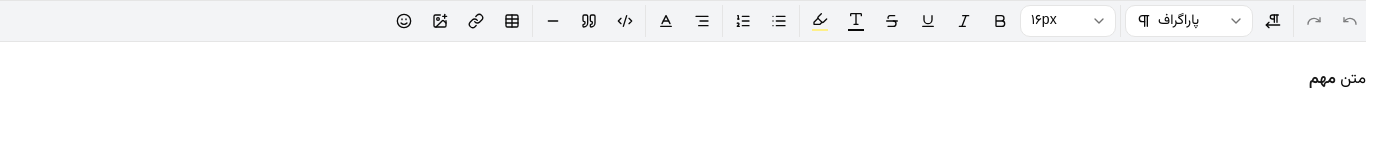
it: DocumentBodyEditor › shows the stored body in a prose scroll area under a full-width ghost toolbar with Farsi tooltips
The width and height of the screenshot is (1378, 160).
Check: the field named "متن سند" reads "متن مهم", box [1309,68,1366,91]
Check: the text box labelled "مهم" is shown, box [1309,68,1336,91]
Hover over the button named "توپر" at (1000, 21), box [984,5,1016,37]
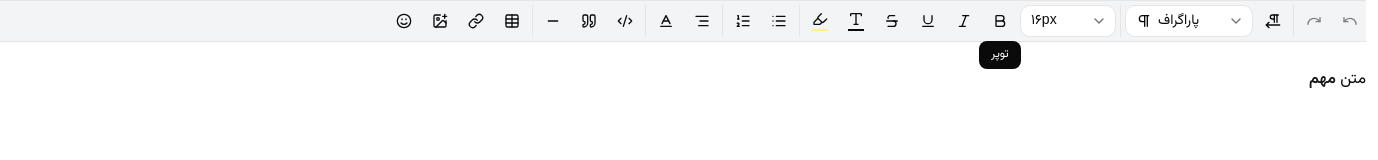
Check: the tooltip reads "توپر", box [991,46,1009,63]
